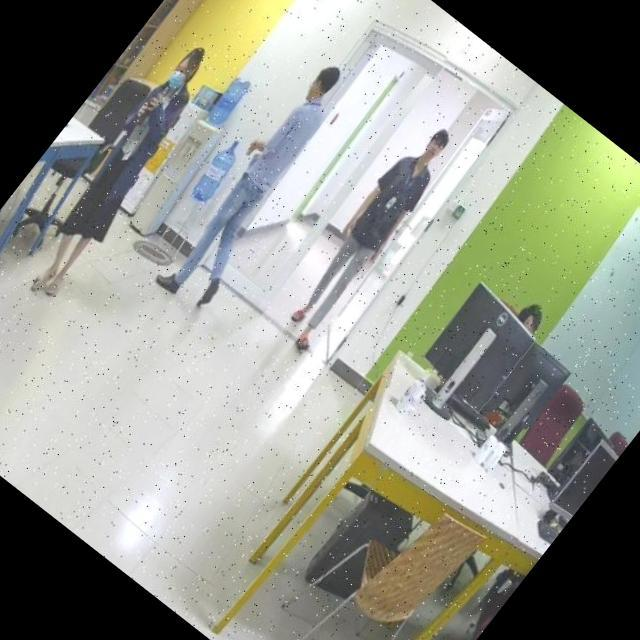person: (4, 42, 230, 309), (150, 58, 371, 317), (260, 110, 470, 358)
